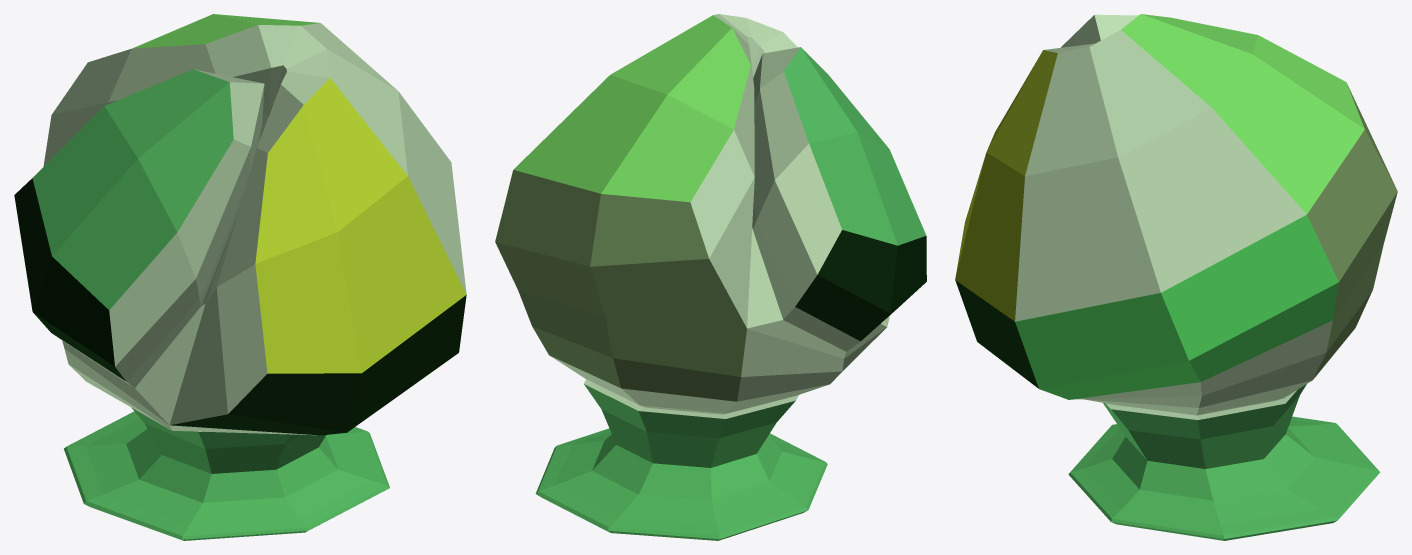
The model's file is res_mushroom.fbx.
The picture shows the model from 3 angles, left to right: view 1: azimuth 30°, elevation 25°; view 2: azimuth 150°, elevation 25°; view 3: azimuth 270°, elevation 25°; orthographic projection. The views are drawn at different scales.
Parts seen in each view (by area): view 1: Cube; view 2: Cube; view 3: Cube.
Part boxes in pixels (bbox=[...]): Cube: bbox=[14, 14, 466, 540]; Cube: bbox=[495, 14, 926, 540]; Cube: bbox=[955, 14, 1397, 540].
Bounding box in the file's own units: 44.06 × 50.14 × 43.36.
